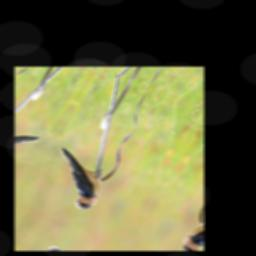Swallow: (30, 142, 118, 216)
